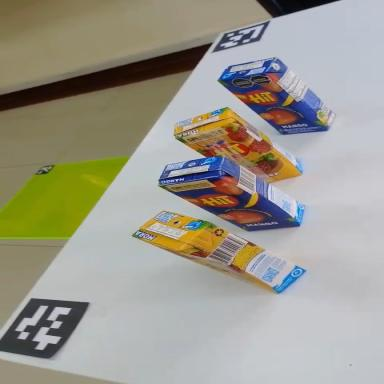HIT-MANGO: (155, 133, 310, 261), (217, 37, 340, 159)
HIT-MORA: (132, 195, 307, 311), (169, 92, 314, 192)
cara_F: (159, 153, 301, 258), (176, 103, 302, 210), (219, 55, 328, 158)
